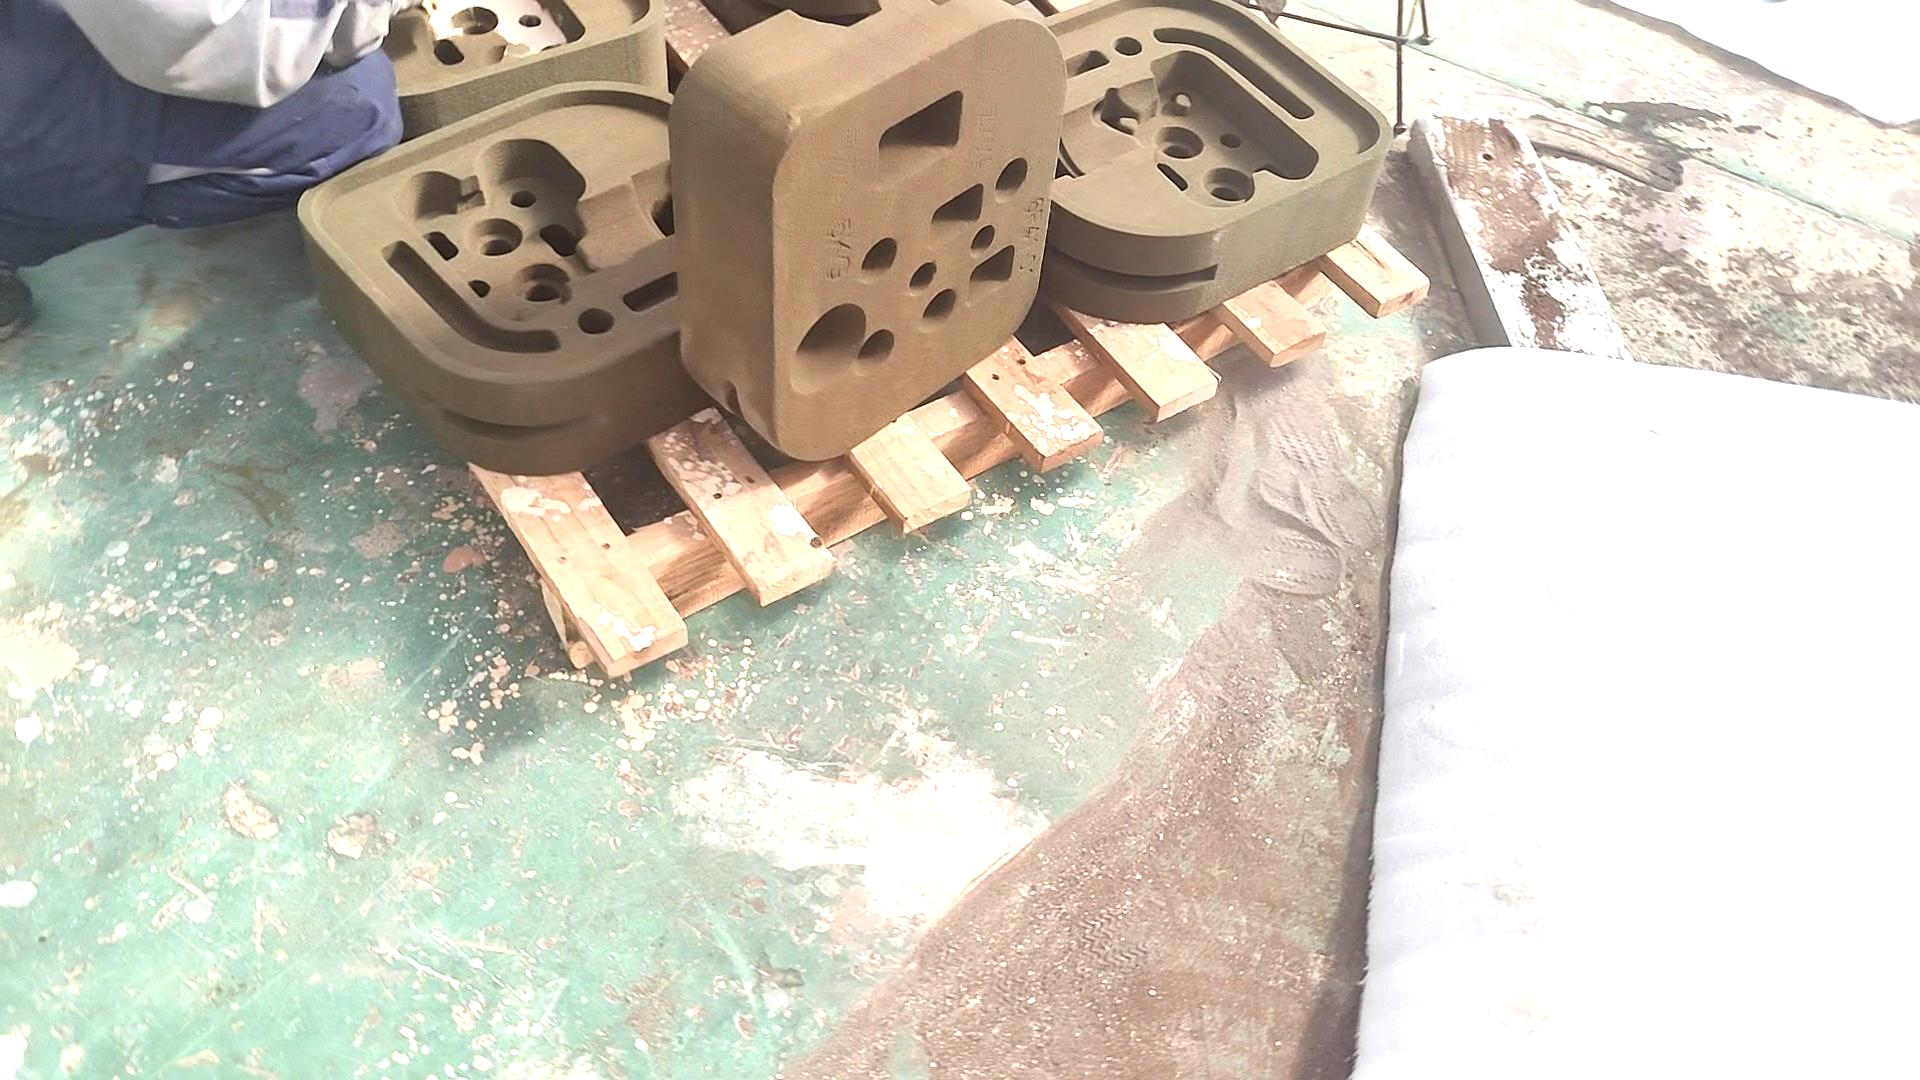pouring hole: (789, 303, 866, 390)
